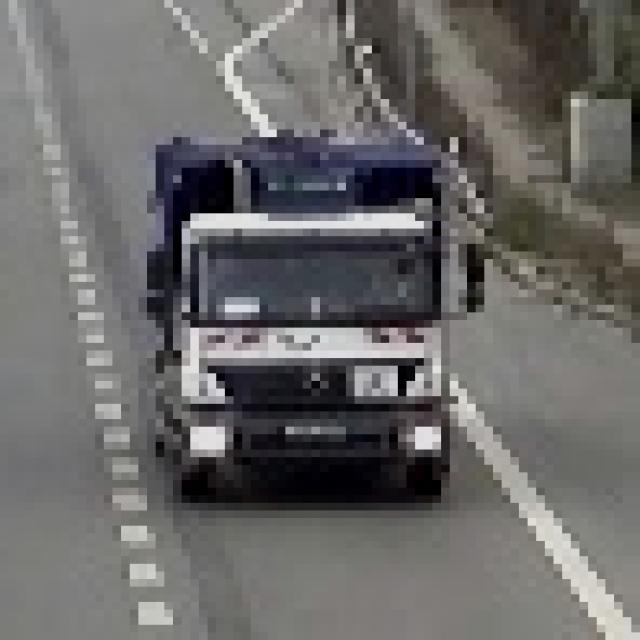truck: (131, 123, 485, 481)
